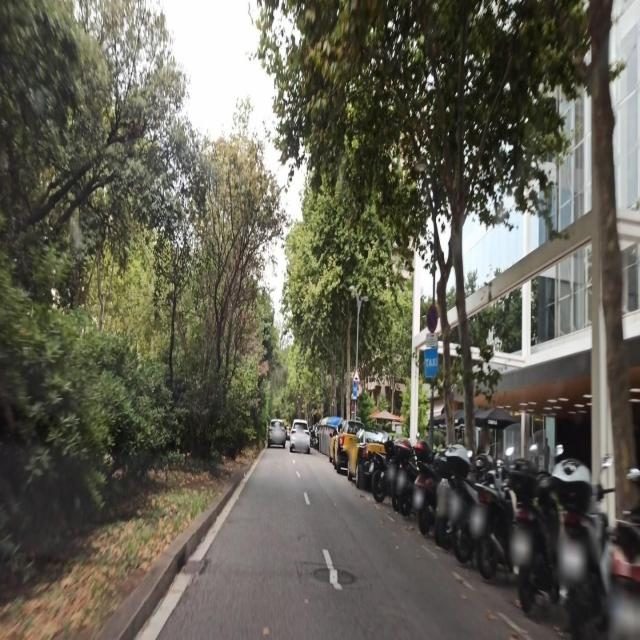forb_stopping: (426, 304, 438, 334)
